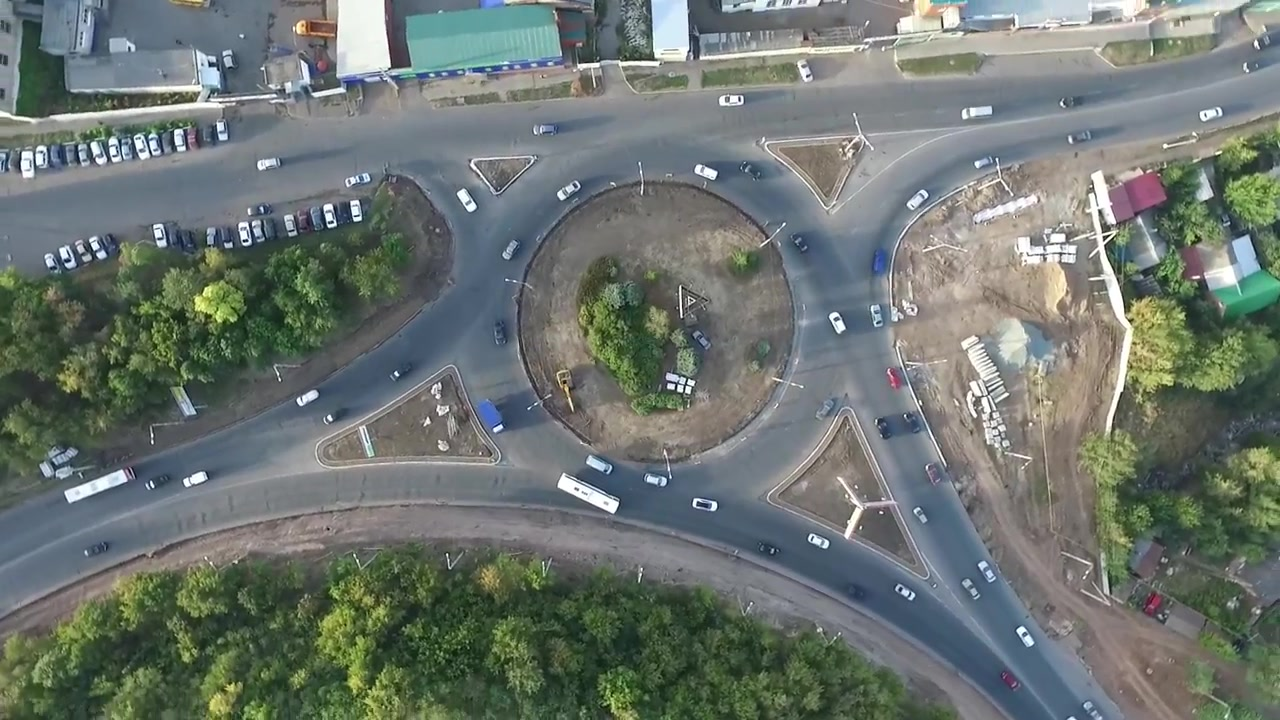car: (555, 471, 622, 516), (63, 466, 138, 504), (472, 398, 507, 436), (291, 19, 338, 37), (583, 452, 614, 476), (455, 187, 480, 215), (903, 187, 930, 212), (555, 178, 583, 202), (1141, 590, 1165, 618), (1252, 30, 1280, 52), (180, 469, 209, 490), (999, 669, 1023, 694), (386, 361, 414, 382), (960, 104, 994, 121), (959, 577, 982, 602), (976, 558, 998, 584), (826, 310, 848, 336), (795, 56, 815, 84), (500, 238, 523, 262), (343, 172, 372, 191), (872, 415, 893, 441), (57, 243, 77, 270), (82, 539, 109, 559), (692, 163, 720, 182), (788, 230, 809, 255), (321, 201, 339, 230), (89, 140, 109, 166), (88, 236, 108, 262), (143, 473, 170, 492), (691, 329, 713, 352), (133, 133, 151, 161), (151, 222, 169, 250), (491, 318, 509, 346), (739, 161, 763, 182), (1014, 625, 1035, 649), (295, 388, 320, 408), (892, 582, 917, 602), (901, 410, 921, 435), (20, 147, 36, 178), (74, 238, 93, 264), (806, 532, 832, 551), (923, 462, 942, 488), (884, 365, 903, 391), (870, 247, 887, 276), (1196, 105, 1225, 122), (642, 471, 669, 489), (43, 252, 63, 276), (691, 496, 719, 513), (718, 92, 746, 109), (107, 135, 123, 164), (1064, 129, 1093, 145), (1241, 56, 1265, 75), (1082, 700, 1104, 720), (254, 157, 283, 172), (530, 122, 559, 137), (237, 221, 253, 248), (102, 232, 119, 257), (756, 541, 781, 558), (348, 198, 364, 224), (322, 410, 348, 426), (869, 303, 885, 329), (221, 48, 239, 71), (179, 230, 196, 253), (296, 208, 311, 234), (49, 143, 64, 169), (282, 213, 298, 237), (246, 203, 273, 217), (911, 505, 929, 526), (1057, 95, 1084, 109), (6, 149, 21, 174), (310, 206, 324, 232), (251, 219, 266, 243), (147, 133, 162, 157), (972, 154, 994, 170), (220, 226, 234, 251), (77, 142, 91, 167), (34, 144, 48, 169), (848, 584, 868, 601), (263, 217, 277, 241), (215, 118, 229, 142), (64, 143, 78, 167), (201, 123, 214, 147), (173, 128, 186, 152), (120, 137, 133, 161), (187, 126, 199, 151), (161, 131, 173, 155), (206, 226, 218, 249), (167, 225, 179, 248), (1, 148, 9, 174)
